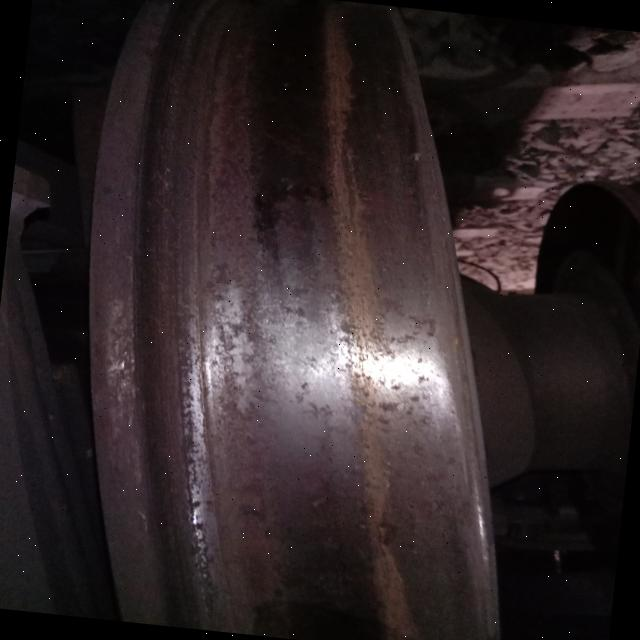flat: (251, 248, 379, 502)
